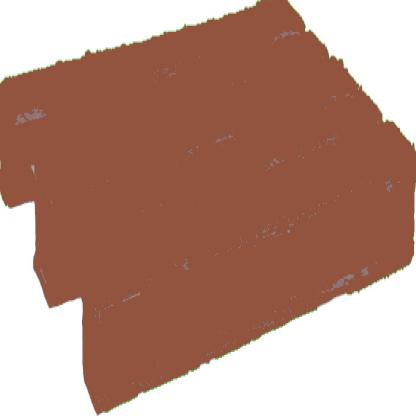BoxFace: (0, 4, 413, 416)
